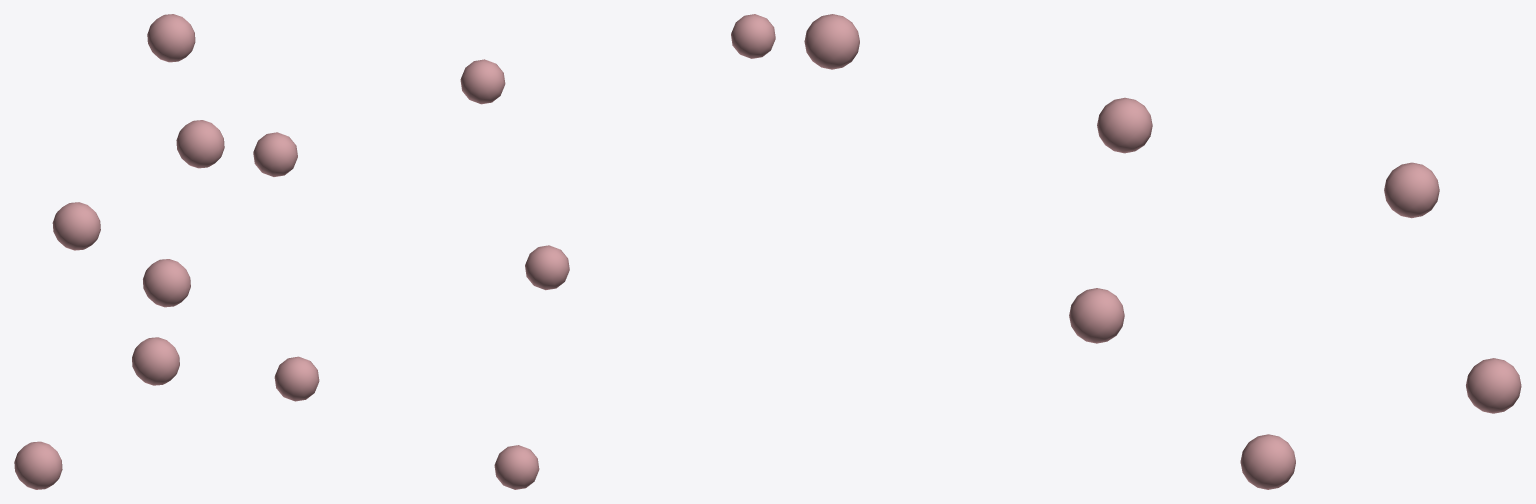
The picture shows the model from 3 angles, left to right: view 1: azimuth 30°, elevation 25°; view 2: azimuth 150°, elevation 25°; view 3: azimuth 270°, elevation 25°; orthographic projection. The views are drawn at different scales.
Parts seen in each view (by area): view 1: ZA_b5b5ef659878b7ae; view 2: ZA_b5b5ef659878b7ae; view 3: ZA_b5b5ef659878b7ae.
Boxes of the visible parts, box(x1,y1,x2,y2) form: ZA_b5b5ef659878b7ae: box(14, 14, 224, 489); ZA_b5b5ef659878b7ae: box(253, 14, 775, 489); ZA_b5b5ef659878b7ae: box(804, 14, 1521, 489).
Size of the model in its own units: 0.0184 by 0.0228 by 0.0335.
